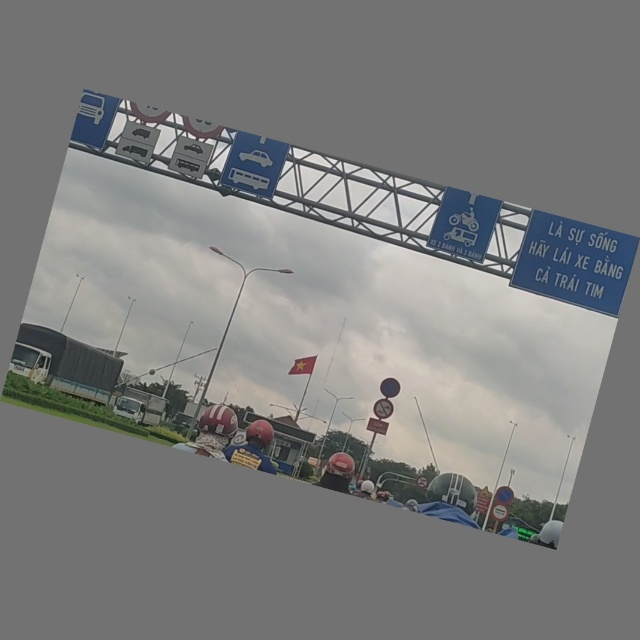P.107: (415, 475, 430, 491)
P.111: (371, 398, 397, 423)
P.129: (489, 504, 511, 526)
P.130: (378, 376, 403, 401)
P.131a: (494, 486, 516, 507)
W.221b: (478, 485, 493, 499)
